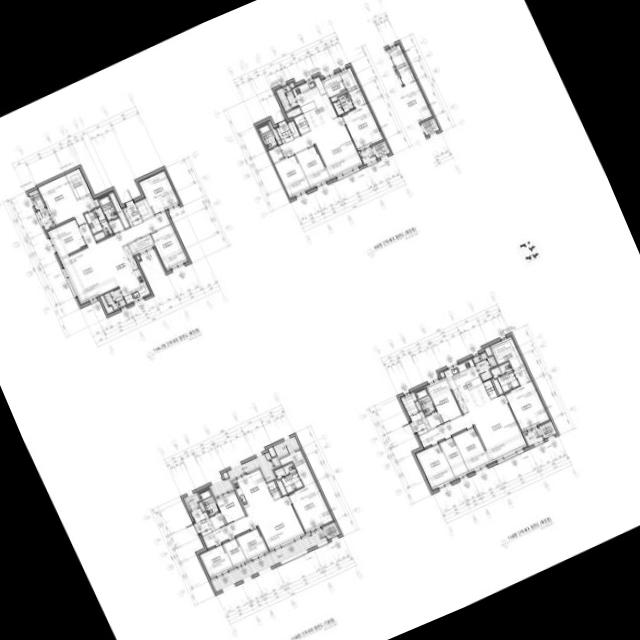background: (0, 0, 640, 640)
space_balconi: (211, 528, 326, 591), (208, 451, 279, 496), (275, 84, 297, 111), (272, 435, 299, 456), (103, 287, 125, 309), (36, 207, 53, 229), (523, 427, 543, 445), (183, 491, 200, 510), (359, 147, 376, 164)
space_bedroom: (37, 174, 96, 225), (504, 365, 549, 431), (288, 481, 333, 532), (138, 169, 179, 214), (415, 443, 455, 489), (149, 224, 188, 269), (452, 427, 490, 472), (425, 377, 461, 422), (274, 154, 310, 197), (47, 219, 85, 257), (295, 145, 329, 187), (198, 544, 232, 578), (236, 527, 267, 560), (215, 490, 244, 523)
space_dressroom: (278, 449, 315, 486), (489, 336, 524, 369), (65, 168, 89, 198), (339, 67, 360, 94)
space_front: (190, 507, 214, 536), (275, 120, 299, 142), (409, 410, 430, 435), (122, 201, 142, 225)
space_kitchen: (104, 244, 149, 303), (443, 358, 490, 413), (291, 76, 336, 129), (231, 468, 274, 514)
space_living_room: (60, 211, 170, 303), (417, 394, 526, 461), (202, 495, 304, 550), (279, 116, 362, 178)
space_other: (341, 90, 382, 150), (439, 437, 468, 478), (108, 191, 129, 228), (223, 537, 246, 567), (321, 72, 345, 96), (128, 234, 154, 255), (134, 197, 152, 219), (400, 392, 417, 415), (293, 113, 309, 133), (268, 120, 281, 144), (425, 411, 441, 428), (209, 512, 225, 529), (108, 217, 124, 233), (268, 145, 283, 162), (483, 379, 496, 398), (267, 480, 280, 499), (99, 294, 112, 312), (491, 377, 503, 394), (275, 478, 286, 495), (330, 90, 346, 101), (286, 106, 301, 117), (484, 345, 492, 355), (267, 446, 275, 456), (414, 400, 421, 410), (198, 501, 204, 511), (93, 198, 99, 206), (222, 471, 228, 478), (439, 371, 444, 377), (289, 82, 294, 87), (136, 255, 139, 259)
space_outdoor_room: (371, 140, 389, 158), (538, 420, 556, 438), (28, 189, 44, 209), (322, 521, 339, 539)
space_toilet: (83, 206, 111, 240), (490, 361, 519, 391), (273, 462, 302, 492), (472, 351, 497, 381), (198, 488, 219, 515), (414, 387, 435, 414), (97, 194, 117, 221), (257, 123, 277, 149), (332, 92, 354, 114)
